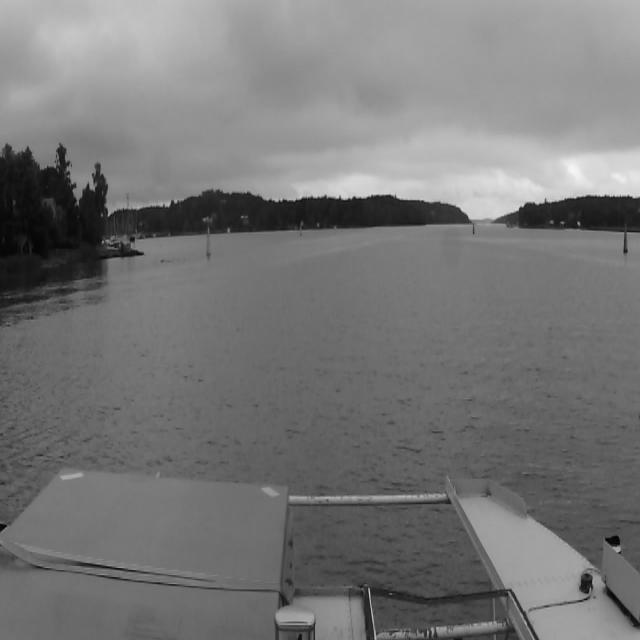buoy: (620, 223, 630, 256), (204, 225, 212, 257), (470, 220, 476, 238), (299, 224, 304, 238)
